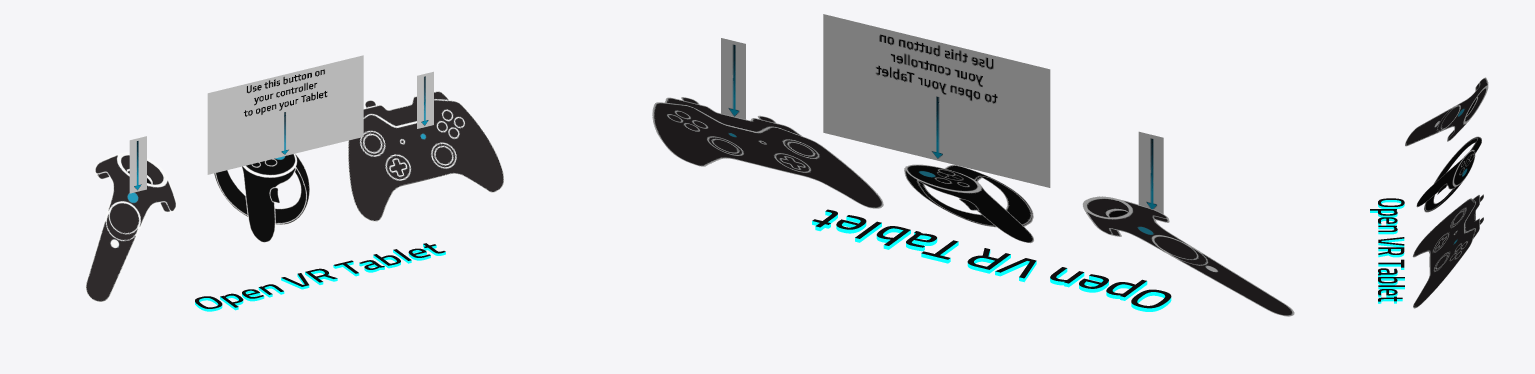
The model's file is FTUE-Tables.fbx.
The picture shows the model from 3 angles, left to right: view 1: azimuth 30°, elevation 25°; view 2: azimuth 150°, elevation 25°; view 3: azimuth 270°, elevation 25°; orthographic projection. The views are drawn at different scales.
Parts seen in each view (by area): view 1: Plane, Plane.002, Text; view 2: Plane.002, Plane, Text; view 3: Plane, Text.
Boxes of the visible parts, <box> form: Plane: <box>84,90,504,302</box>; Plane.002: <box>129,55,433,193</box>; Text: <box>195,243,445,311</box>; Plane.002: <box>721,14,1163,213</box>; Plane: <box>652,97,1294,316</box>; Text: <box>812,209,1171,311</box>; Plane: <box>1405,77,1488,308</box>; Text: <box>1370,198,1404,303</box>.
Size of the model in its own units: 400 by 168 by 133.
3 materials, 2 textured.
